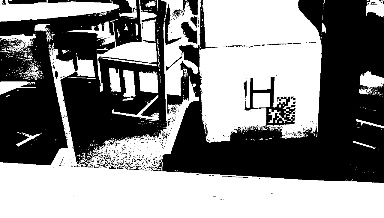H: (243, 72, 276, 107)
